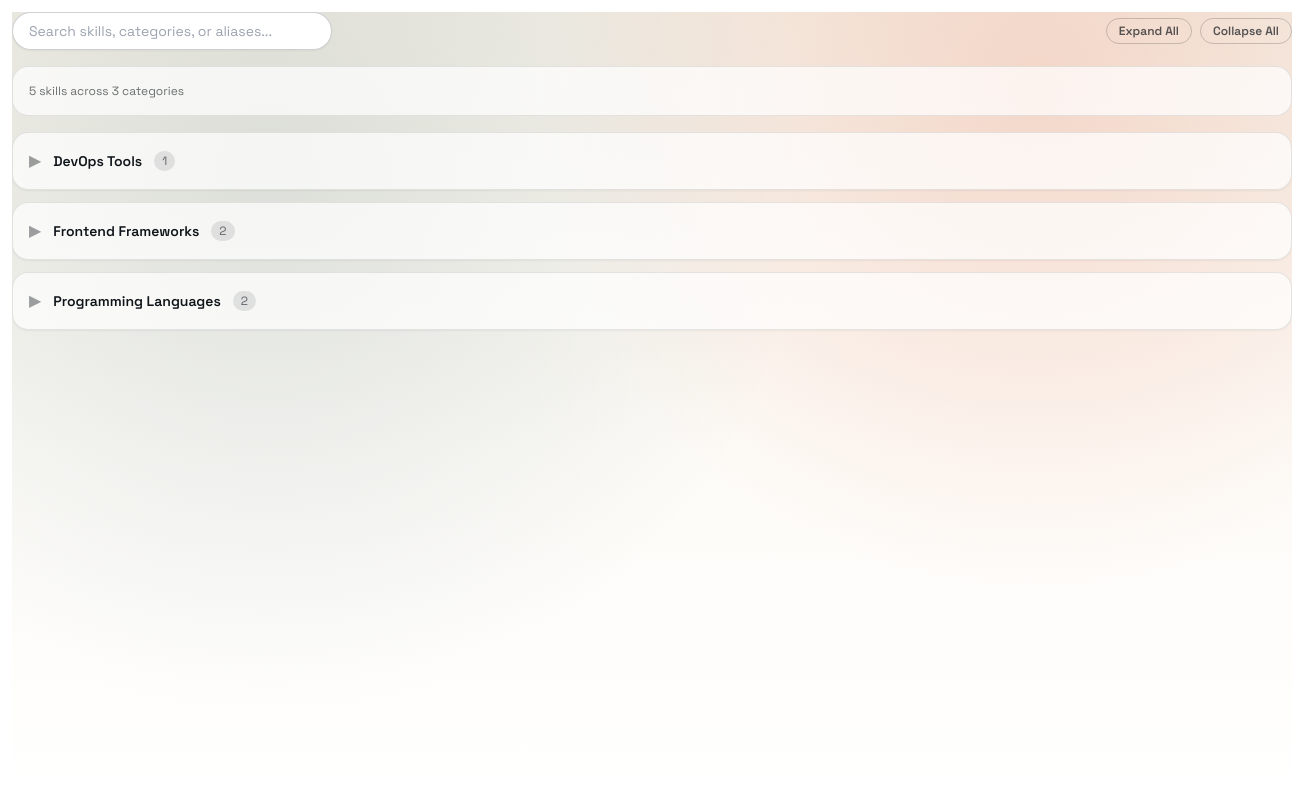
Scenario: TaxonomyViewer › click - on expanded category - collapses category and hides skills
This screenshot has width=1304, height=812.
Click the button with aria-label "expand category programming languages". click: [137, 301]
box: x1=13 y1=273 x2=1291 y2=329
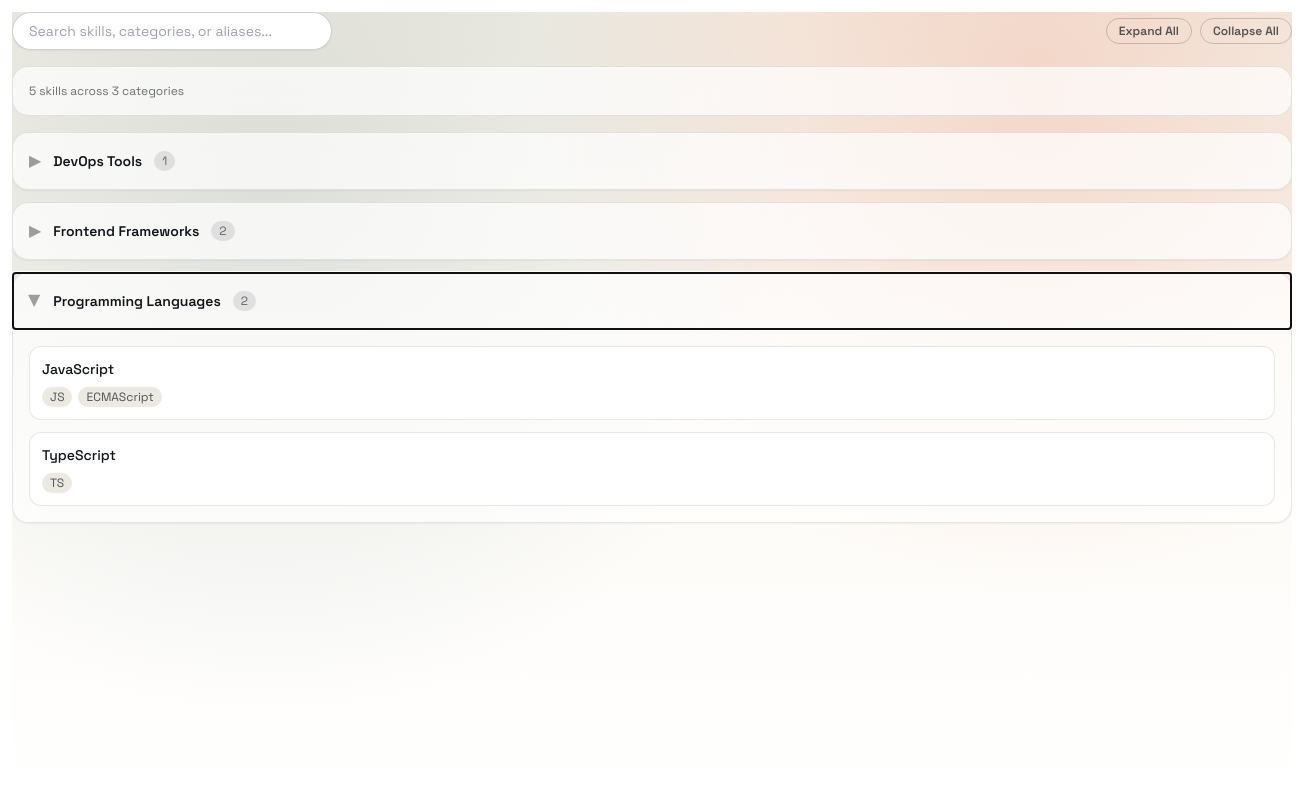
Check: the text "JavaScript" is shown, box x1=42 y1=360 x2=114 y2=378
Click the button with aria-label "expand category programming languages". click: [137, 301]
box: x1=13 y1=273 x2=1291 y2=329
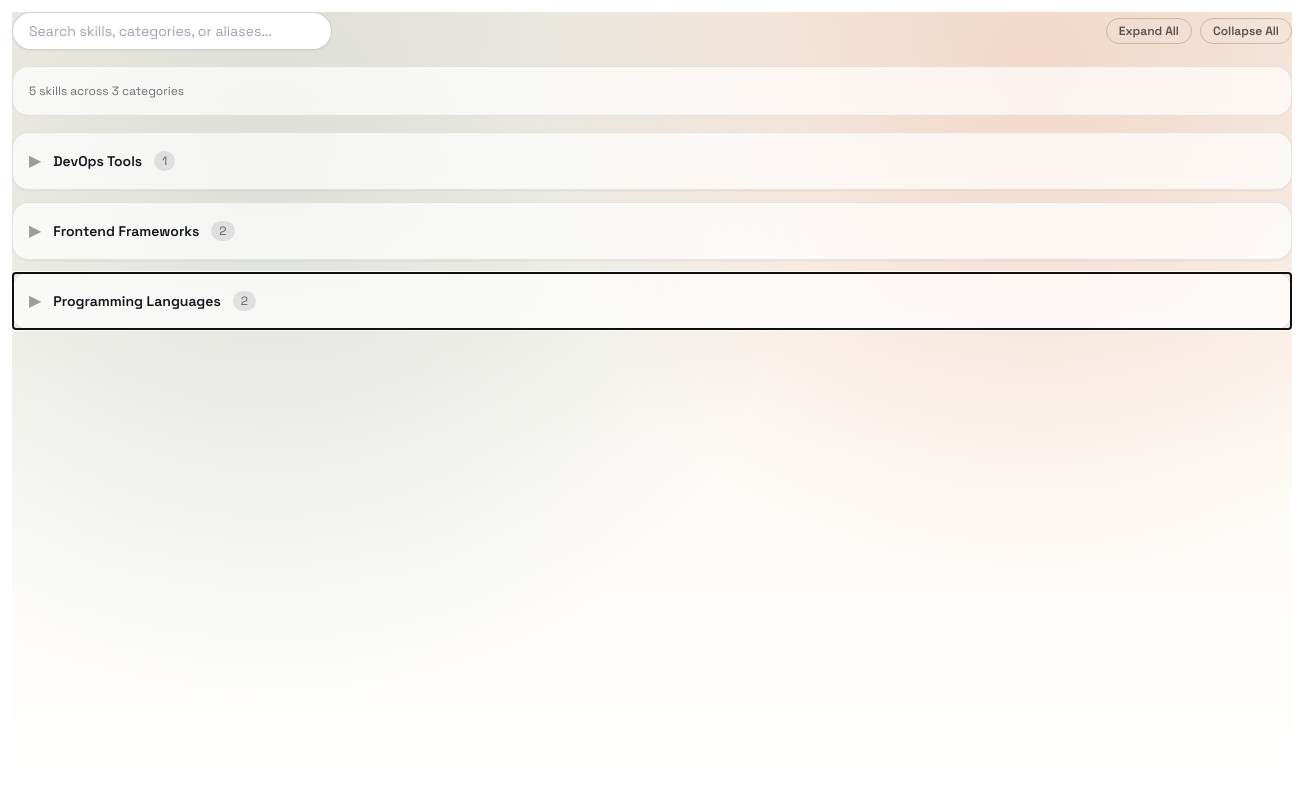
Check: the text "JavaScript" is gone
